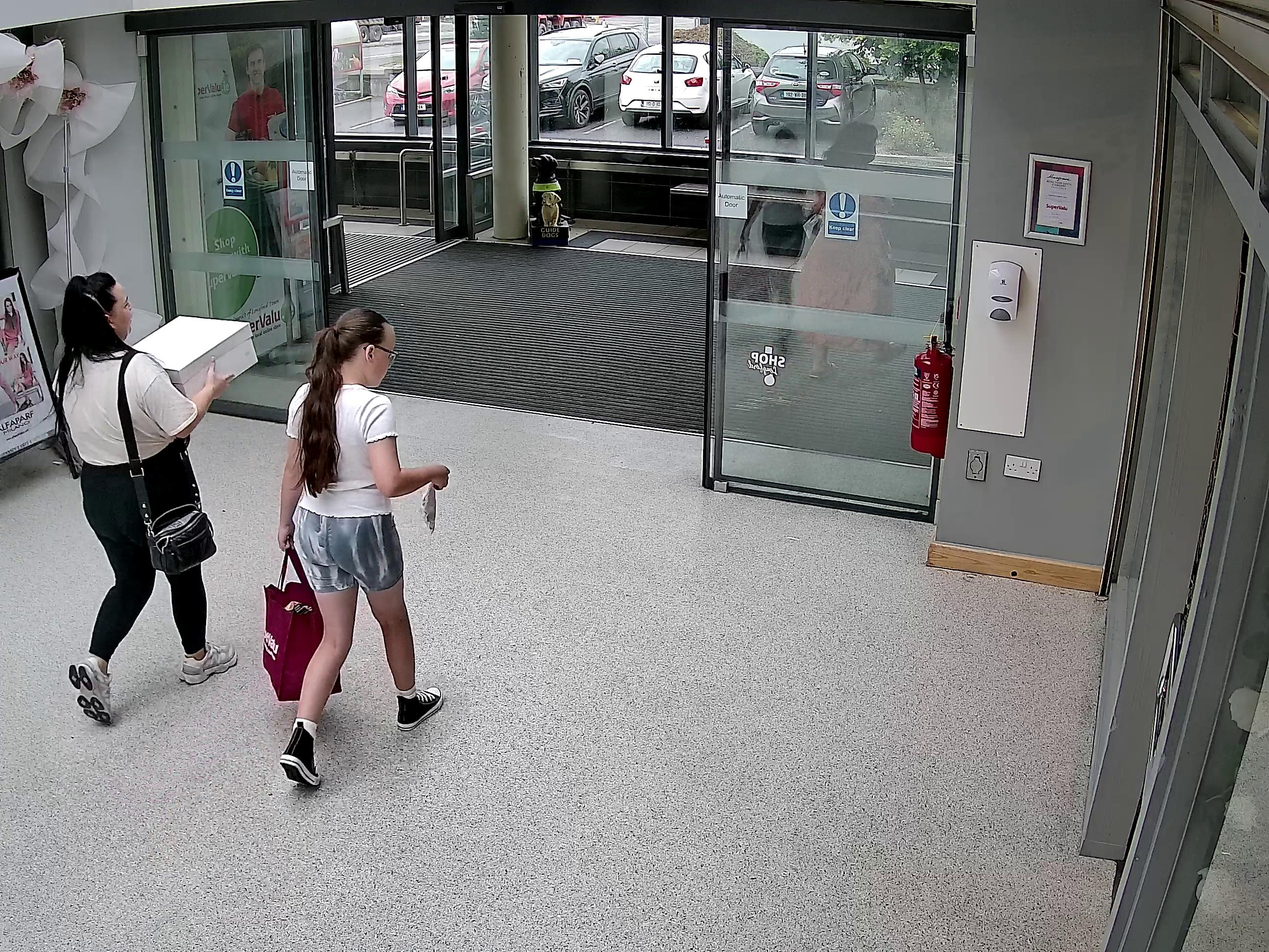backpack-or-handbag: (146, 505, 217, 574)
carrying-item: (131, 315, 259, 398)
filled-shopping-bags: (262, 548, 342, 700)
person: (53, 271, 238, 726), (277, 307, 450, 787)
person-with-backpack-handbag-and-carrying-item-s-: (53, 270, 260, 726)
person-with-filled-shopping-bag-s-: (261, 305, 449, 788)
